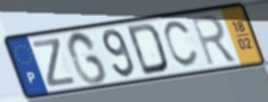9: (102, 27, 136, 79)
C: (162, 18, 201, 70)
D: (125, 21, 171, 77)
G: (65, 29, 110, 87)
R: (189, 13, 239, 68)
Z: (30, 36, 79, 90)
